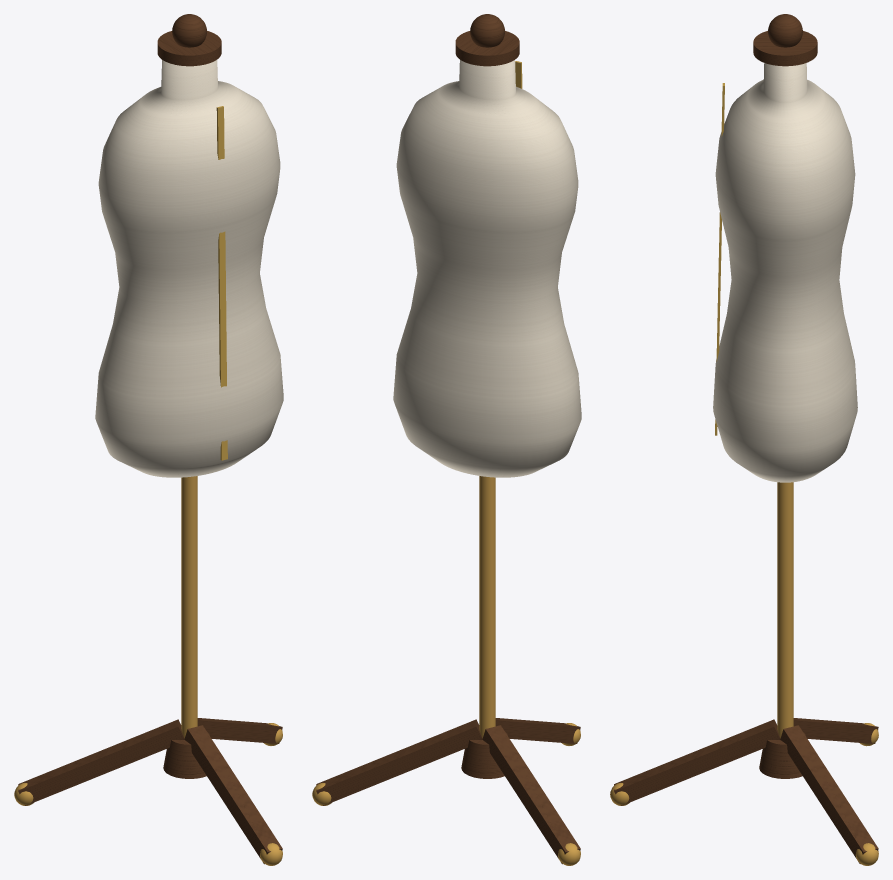
The model's file is dress-form.glb.
3 views of the same model, side by side, from view 1: azimuth 30°, elevation 25°; view 2: azimuth 150°, elevation 25°; view 3: azimuth 270°, elevation 25° (orthographic).
Visible parts, largest first — view 1: torso, leg (×3), pole, tape, neck-cap, hub, knob; view 2: torso, leg (×3), pole, neck-cap, hub, knob; view 3: torso, leg (×3), pole, neck-cap, hub, knob, tape.
Part boxes in pixels (bbox=[...]): torso: bbox=[95, 60, 283, 477]; leg (×3): bbox=[18, 718, 282, 864]; pole: bbox=[181, 476, 197, 737]; tape: bbox=[216, 106, 227, 460]; neck-cap: bbox=[157, 31, 221, 66]; hub: bbox=[163, 732, 209, 778]; knob: bbox=[172, 14, 206, 47]; torso: bbox=[393, 60, 581, 477]; leg (×3): bbox=[316, 718, 580, 864]; pole: bbox=[479, 476, 495, 737]; neck-cap: bbox=[455, 31, 519, 66]; hub: bbox=[461, 732, 507, 778]; knob: bbox=[470, 14, 504, 47]; torso: bbox=[713, 63, 857, 482]; leg (×3): bbox=[614, 718, 878, 863]; pole: bbox=[777, 482, 793, 737]; neck-cap: bbox=[753, 31, 817, 66]; hub: bbox=[759, 732, 805, 778]; knob: bbox=[768, 14, 802, 47]; tape: bbox=[715, 83, 724, 435].
Bounding box in the file's own units: 0.5246 × 1.49 × 0.4598.
4 materials, 2 textured.
